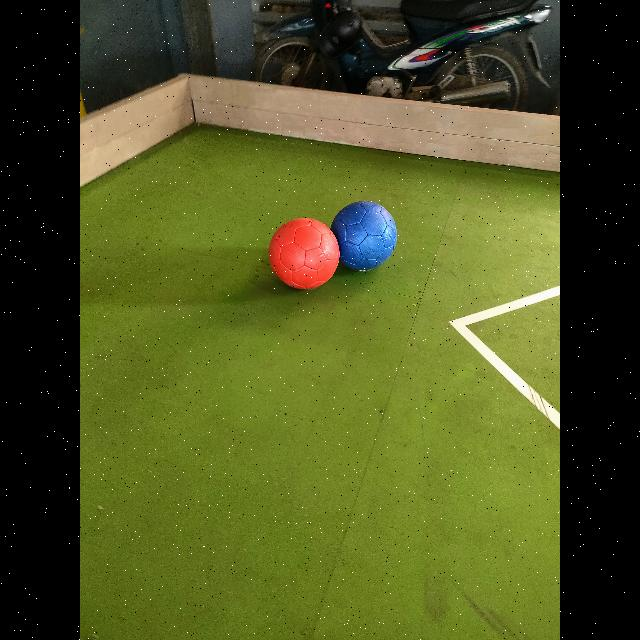B: (330, 202, 398, 270)
R: (268, 218, 340, 289)
